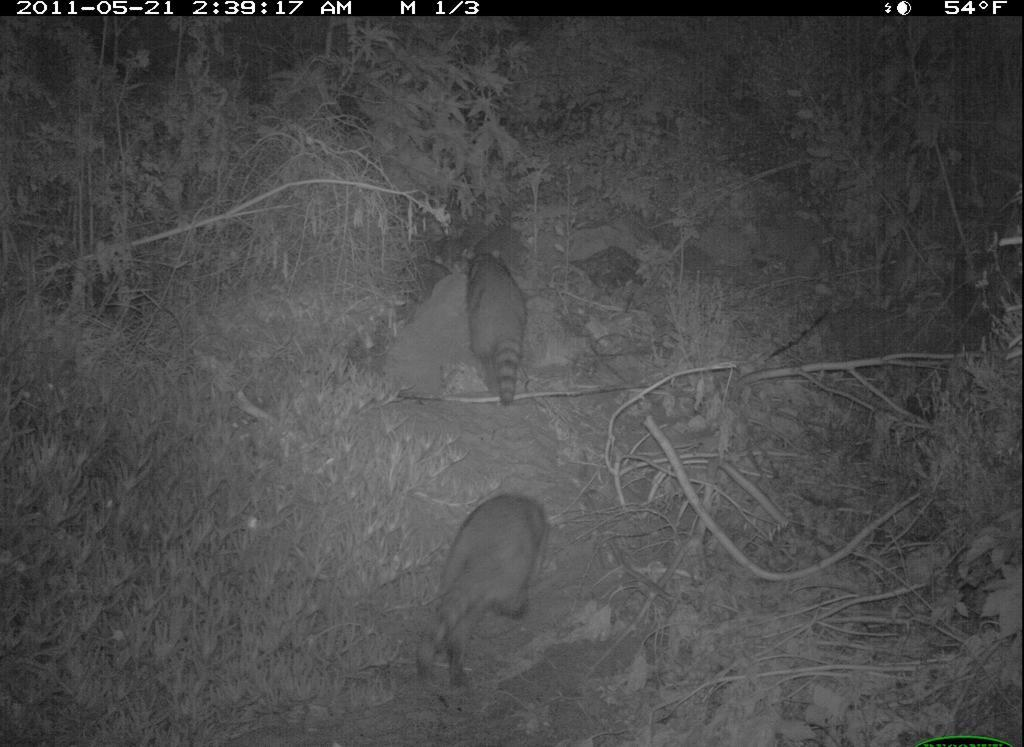raccoon: (396, 482, 565, 698), (440, 226, 560, 419)
